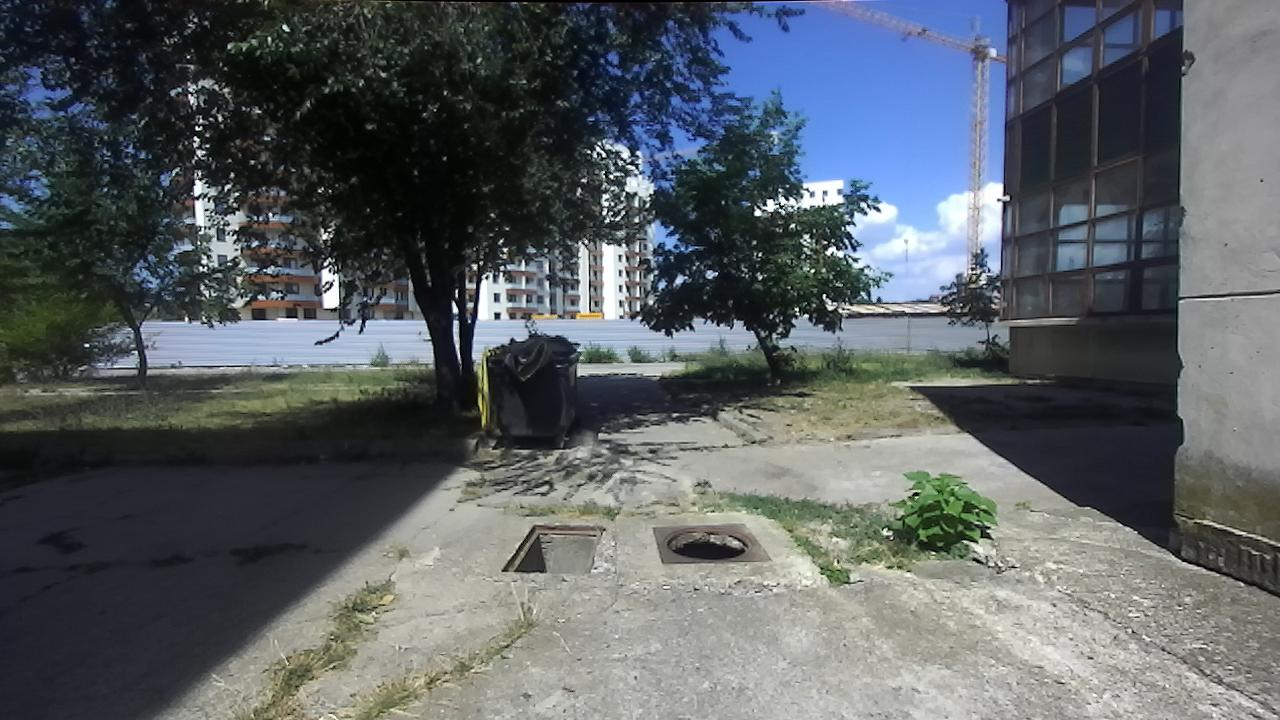drain: (496, 522, 608, 577), (663, 524, 759, 566)
